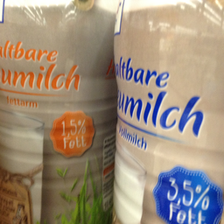milk: (1, 2, 115, 224), (113, 1, 223, 224)
